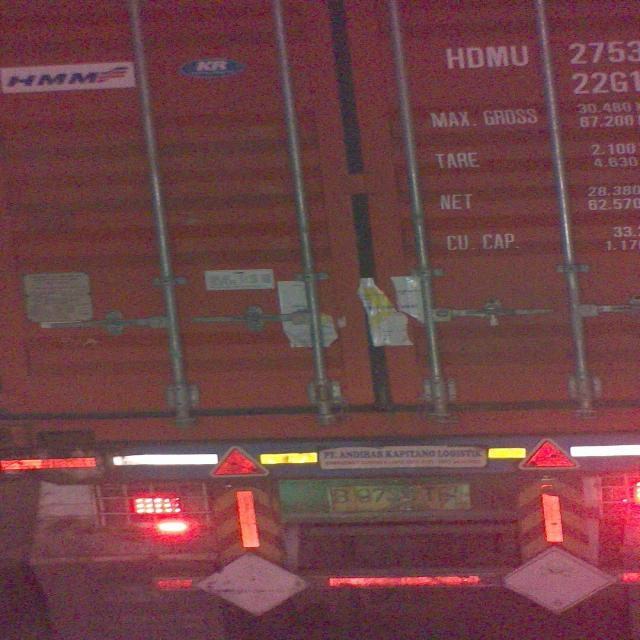seal: (486, 307, 507, 327)
